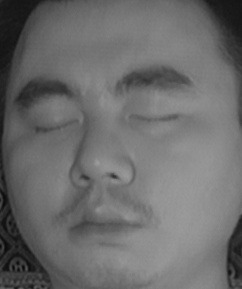blink: (130, 101, 181, 136), (29, 105, 78, 141)
mouth: (59, 195, 148, 249)
